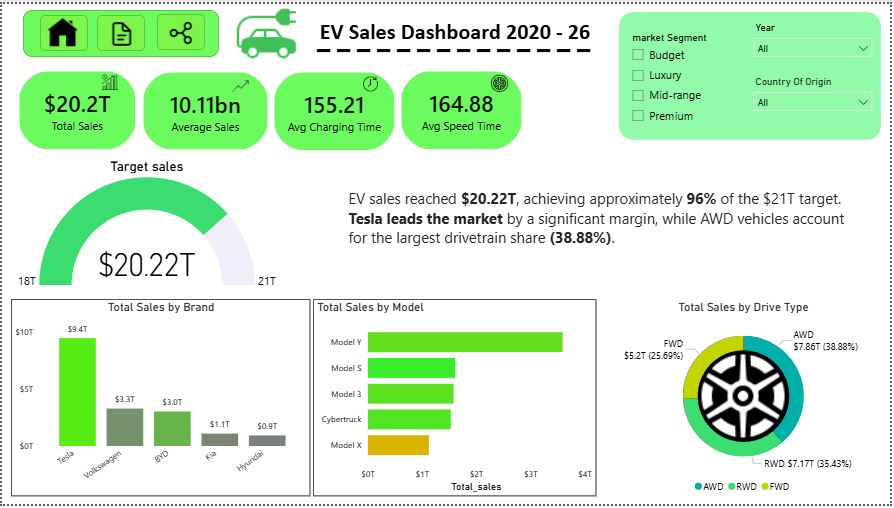

What the dashboard file says about the page in this screenshot:
{"tool":"powerbi","page":{"name":"Overview","canvas":[1280,720],"ordinal":0},"visuals":[{"type":"shape","box":[888.5,11.5,377.3,184.3],"z":0},{"type":"textbox","box":[443.5,14.6,417.6,64.8],"z":0,"group":"g1"},{"type":"textbox","box":[444.2,3.7,427.7,113.8],"z":1000,"group":"g1"},{"type":"slicer","fields":{"Values":["ev_market_2026 dashboard.year"]},"box":[1077.1,25.9,181.4,53.3],"z":1000},{"type":"slicer","fields":{"Values":["ev_market_2026 dashboard.market_segment"]},"box":[900,40.3,146.9,135.4],"z":2000},{"type":"slicer","fields":{"Values":["ev_market_2026 dashboard.country_of_origin"]},"box":[1077.1,103.7,181.4,83.5],"z":3000},{"type":"group","id":"g1","title":"Group 1","box":[443.5,3.7,428.4,113.8],"z":4000},{"type":"cardVisual","fields":{"Data":["ev_market_2026 dashboard.Total_sales"]},"box":[13,85,191.5,136.8],"z":5000},{"type":"cardVisual","fields":{"Data":["ev_market_2026 dashboard.avg_charging"]},"box":[380.2,86.4,197.3,136.8],"z":6000},{"type":"image","box":[957.6,470.9,218.9,187.2],"z":7000},{"type":"cardVisual","fields":{"Data":["ev_market_2026 dashboard.avg_sales"]},"box":[190.8,86.4,203,135.4],"z":8000},{"type":"image","box":[298.1,0,164.2,85],"z":9000},{"type":"donutChart","title":"Total Sales by Drive Type","fields":{"Category":["ev_market_2026 dashboard.drive_type"],"Y":["ev_market_2026 dashboard.Total_sales"]},"box":[869.8,426.2,396,282.2],"z":10000},{"type":"cardVisual","fields":{"Data":["ev_market_2026 dashboard.avg_speed"]},"box":[563,85,197.3,136.8],"z":11000},{"type":"clusteredColumnChart","title":"Total Sales by Brand","fields":{"Category":["ev_market_2026 dashboard.brand"],"Y":["ev_market_2026 dashboard.Total_sales"]},"box":[13,424.8,430.6,283.7],"z":12000},{"type":"gauge","title":"Target sales","fields":{"MaxValue":["All Measures.maxvalue"],"MinValue":["All Measures.minvalue"],"Y":["All Measures.Total_sales"]},"box":[13.4,221.7,391.4,196.5],"z":13000},{"type":"textbox","box":[493.9,260.6,733,110.9],"z":14000},{"type":"barChart","title":"Total Sales by Model","fields":{"Category":["ev_market_2026 dashboard.model"],"Y":["ev_market_2026 dashboard.Total_sales"]},"box":[447.8,424.8,407.5,283.7],"z":15000},{"type":"image","box":[323,103.6,41,25.9],"z":16000},{"type":"image","box":[120.9,98.6,69.8,30.9],"z":17000},{"type":"image","box":[510.8,103.6,39.6,23],"z":18000},{"type":"image","box":[696.4,100.7,39.6,27.3],"z":19000},{"type":"shape","box":[30.2,8.6,282.2,67.7],"z":20000},{"type":"shape","box":[136.7,16.4,69.1,51.8],"z":21000},{"type":"shape","box":[54.6,16.4,69.1,51.8],"z":22000},{"type":"actionButton","box":[60.3,16.4,53.3,51.8],"z":23000},{"type":"actionButton","box":[148.3,23,47.5,40.3],"z":24000},{"type":"shape","box":[223.2,14.4,69.1,51.8],"z":25000},{"type":"actionButton","box":[233.3,21.6,47.5,40.3],"z":26000}]}

Visuals, with their boxes in screenshot pixels (x1, y1, x2, y2), scaled from the page's 1280x720 canvas onto the 894x508 screenshot:
shape: box(621, 8, 884, 138)
textbox: box(310, 10, 601, 56)
textbox: box(310, 3, 609, 83)
slicer - ev_market_2026 dashboard.year: box(752, 18, 879, 56)
slicer - ev_market_2026 dashboard.market_segment: box(629, 28, 731, 124)
slicer - ev_market_2026 dashboard.country_of_origin: box(752, 73, 879, 132)
"Group 1" group: box(310, 3, 609, 83)
cardVisual - ev_market_2026 dashboard.Total_sales: box(9, 60, 143, 156)
cardVisual - ev_market_2026 dashboard.avg_charging: box(266, 61, 403, 157)
image: box(669, 332, 822, 464)
cardVisual - ev_market_2026 dashboard.avg_sales: box(133, 61, 275, 156)
image: box(208, 0, 323, 60)
"Total Sales by Drive Type" donutChart: box(608, 301, 884, 500)
cardVisual - ev_market_2026 dashboard.avg_speed: box(393, 60, 531, 156)
"Total Sales by Brand" clusteredColumnChart: box(9, 300, 310, 500)
"Target sales" gauge: box(9, 156, 283, 295)
textbox: box(345, 184, 857, 262)
"Total Sales by Model" barChart: box(313, 300, 597, 500)
image: box(226, 73, 254, 91)
image: box(84, 70, 133, 91)
image: box(357, 73, 384, 89)
image: box(486, 71, 514, 90)
shape: box(21, 6, 218, 54)
shape: box(95, 12, 144, 48)
shape: box(38, 12, 86, 48)
actionButton: box(42, 12, 79, 48)
actionButton: box(104, 16, 137, 45)
shape: box(156, 10, 204, 47)
actionButton: box(163, 15, 196, 44)
